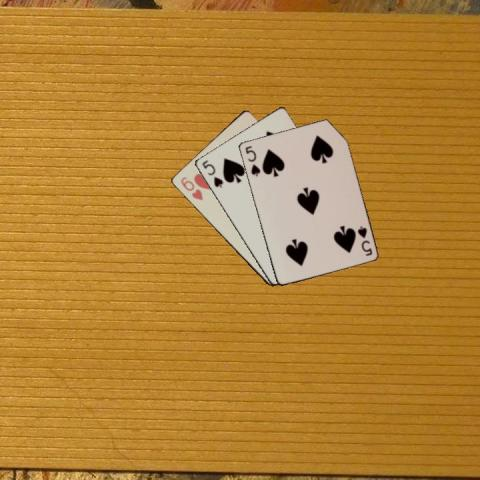5s: (198, 158, 224, 190), (242, 143, 261, 177), (354, 223, 373, 257)
6h: (177, 174, 204, 202)
